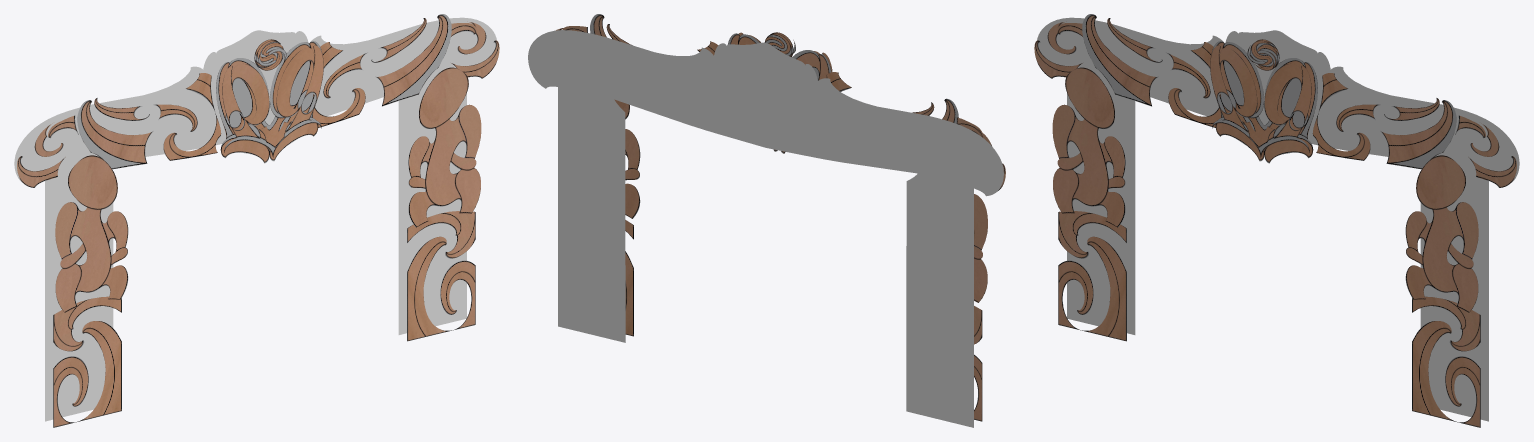
File: stage.fbx_STAGE.fbx
3 views of the same model, side by side, from view 1: azimuth 30°, elevation 25°; view 2: azimuth 150°, elevation 25°; view 3: azimuth 330°, elevation 25° (orthographic).
Visible parts, largest first — view 1: back, Sync Stage v4.832, Sync Stage v4.591, Sync Stage v4.393, Sync Stage v4.300, Sync Stage v4.817, Sync Stage v4.833, Sync Stage v4.443, Sync Stage v4.829, Sync Stage v4.834, Sync Stage v4.816, Sync Stage v4.828 (+7 smaller); view 2: back, Sync Stage v4.832, Sync Stage v4.591, Sync Stage v4.393, Sync Stage v4.817, Sync Stage v4.833; view 3: back, Sync Stage v4.591, Sync Stage v4.832, Sync Stage v4.393, Sync Stage v4.300, Sync Stage v4.833, Sync Stage v4.817, Sync Stage v4.829, Sync Stage v4.443, Sync Stage v4.816, Sync Stage v4.834, Sync Stage v4.419 (+7 smaller).
Boxes of the visible parts, x1=… form: back: x1=14, y1=17, x2=496, y2=421; Sync Stage v4.832: x1=55, y1=155, x2=128, y2=312; Sync Stage v4.591: x1=408, y1=67, x2=481, y2=227; Sync Stage v4.393: x1=216, y1=41, x2=322, y2=163; Sync Stage v4.300: x1=222, y1=45, x2=323, y2=157; Sync Stage v4.817: x1=407, y1=236, x2=475, y2=341; Sync Stage v4.833: x1=53, y1=321, x2=121, y2=427; Sync Stage v4.443: x1=375, y1=14, x2=451, y2=106; Sync Stage v4.829: x1=77, y1=100, x2=153, y2=169; Sync Stage v4.834: x1=53, y1=296, x2=121, y2=351; Sync Stage v4.816: x1=407, y1=211, x2=475, y2=258; Sync Stage v4.828: x1=163, y1=73, x2=221, y2=160; back: x1=528, y1=30, x2=1003, y2=427; Sync Stage v4.832: x1=974, y1=194, x2=987, y2=302; Sync Stage v4.591: x1=614, y1=99, x2=640, y2=218; Sync Stage v4.393: x1=727, y1=33, x2=831, y2=153; Sync Stage v4.817: x1=625, y1=251, x2=633, y2=336; Sync Stage v4.833: x1=974, y1=354, x2=982, y2=421; back: x1=1037, y1=17, x2=1519, y2=421; Sync Stage v4.591: x1=1405, y1=155, x2=1478, y2=312; Sync Stage v4.832: x1=1052, y1=67, x2=1125, y2=227; Sync Stage v4.393: x1=1211, y1=41, x2=1317, y2=163; Sync Stage v4.300: x1=1210, y1=45, x2=1311, y2=157; Sync Stage v4.833: x1=1058, y1=236, x2=1126, y2=341; Sync Stage v4.817: x1=1412, y1=321, x2=1480, y2=427; Sync Stage v4.829: x1=1082, y1=14, x2=1158, y2=106; Sync Stage v4.443: x1=1380, y1=100, x2=1456, y2=169; Sync Stage v4.816: x1=1412, y1=296, x2=1480, y2=351; Sync Stage v4.834: x1=1058, y1=211, x2=1126, y2=258; Sync Stage v4.419: x1=1312, y1=73, x2=1370, y2=160.
Bounding box in the file's own units: 6.53 × 4.38 × 0.45.
